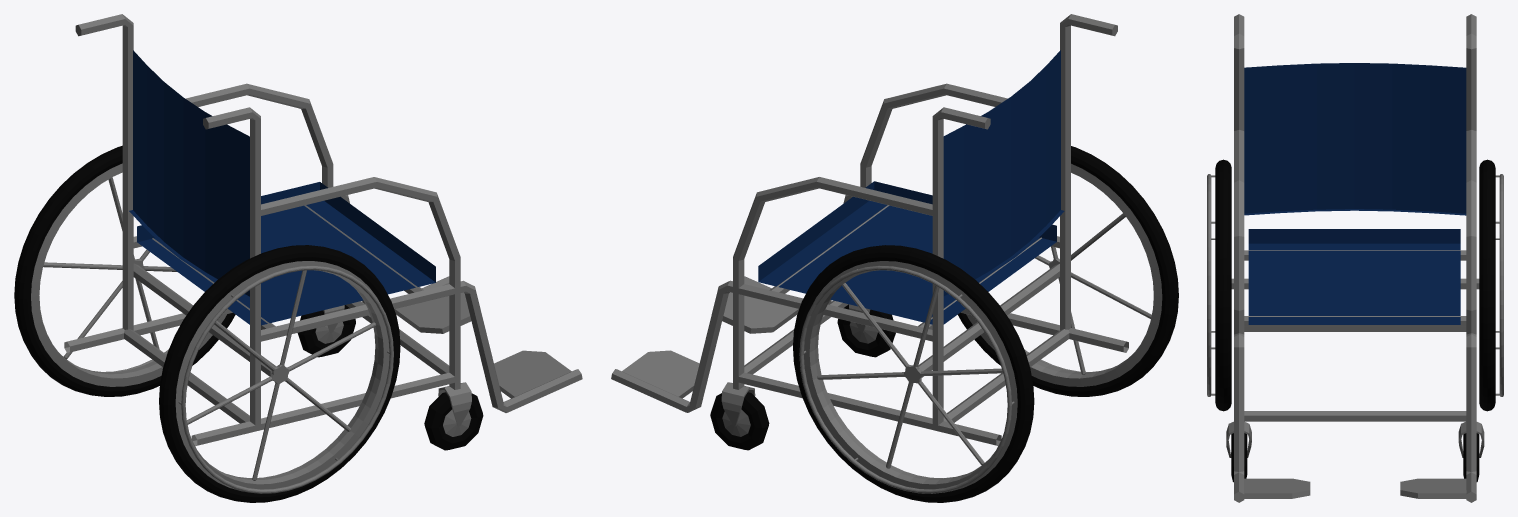
Rendered from WheelChair.glb.
3 renders of one model, left to right at view 1: azimuth 30°, elevation 25°; view 2: azimuth 150°, elevation 25°; view 3: azimuth 270°, elevation 25°, orthographic. The views are drawn at different scales.
Visible parts, largest first — view 1: main frame, right_wheel, left_wheel; view 2: main frame, left_wheel, right_wheel; view 3: main frame, right_wheel, left_wheel.
Boxes of the visible parts, bbox=[...] form: main frame: bbox=[64, 14, 582, 450]; right_wheel: bbox=[159, 245, 400, 502]; left_wheel: bbox=[14, 145, 235, 396]; main frame: bbox=[611, 14, 1128, 450]; left_wheel: bbox=[793, 245, 1034, 502]; right_wheel: bbox=[957, 146, 1178, 396]; main frame: bbox=[1226, 14, 1484, 502]; right_wheel: bbox=[1207, 159, 1231, 411]; left_wheel: bbox=[1479, 159, 1503, 411].
Bounding box in the file's own units: 1.11 × 0.9685 × 0.7302.
2 materials, 2 textured.
